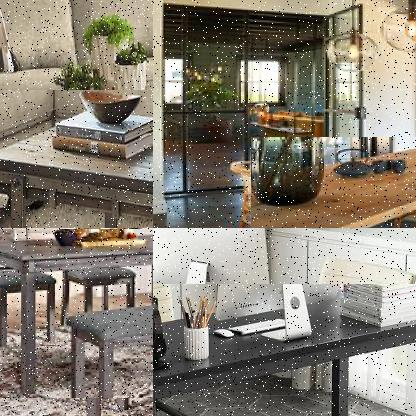table: (153, 284, 415, 415), (0, 229, 152, 400), (0, 89, 152, 227), (250, 137, 415, 227)
